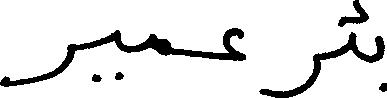X: (0, 39, 73, 91), (262, 48, 320, 97), (226, 23, 242, 65), (376, 31, 386, 96), (151, 29, 169, 60), (113, 25, 118, 84), (349, 0, 353, 57)
